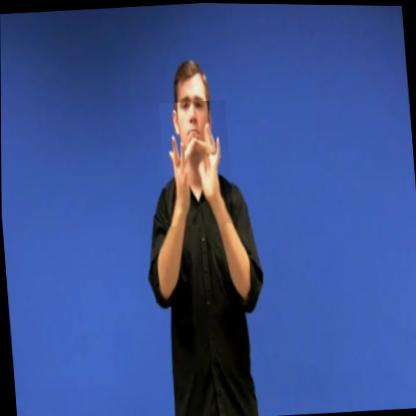Internet: (159, 98, 234, 226)
